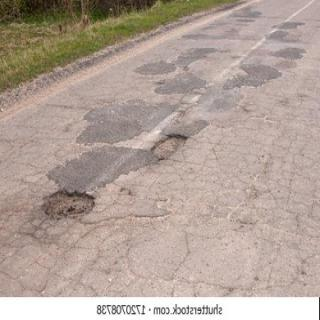pothole: (49, 195, 95, 217), (150, 138, 186, 160)
